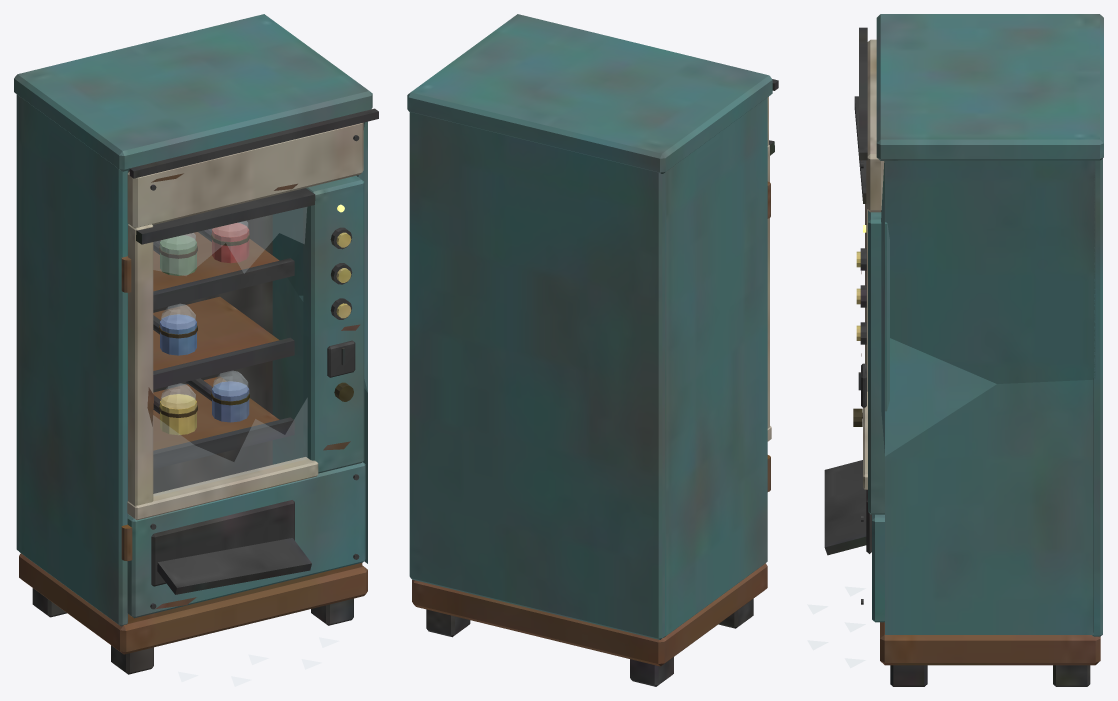
The model's file is BR12_smashed_vending_machine.glb.
The picture shows the model from 3 angles, left to right: view 1: azimuth 30°, elevation 25°; view 2: azimuth 150°, elevation 25°; view 3: azimuth 270°, elevation 25°; orthographic projection. The views are drawn at different scales.
Parts seen in each view (by area): view 1: Short rubber foot; view 2: Short rubber foot; view 3: Short rubber foot.
Part boxes in pixels (box(x1,y1,x2,y2)): Short rubber foot: box(14, 14, 378, 686); Short rubber foot: box(407, 14, 778, 686); Short rubber foot: box(807, 14, 1103, 686).
Bounding box in the file's own units: 0.9 × 1.8 × 0.875.
12 materials, 10 textured.
